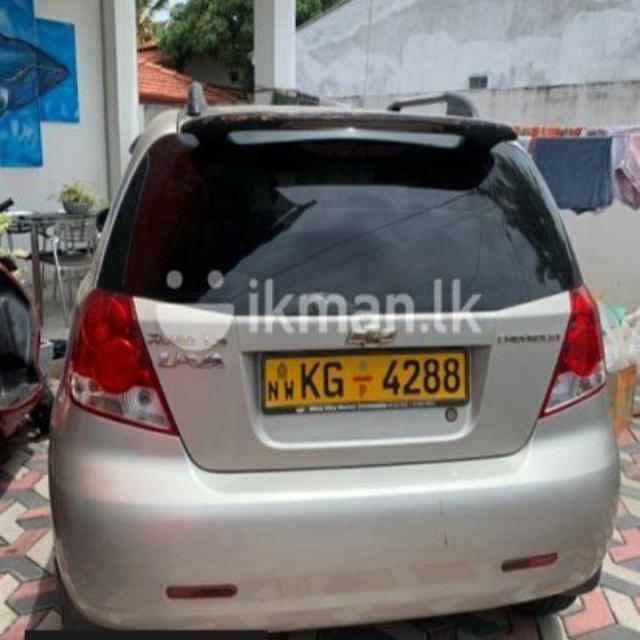license-plate: (263, 354, 466, 401)
